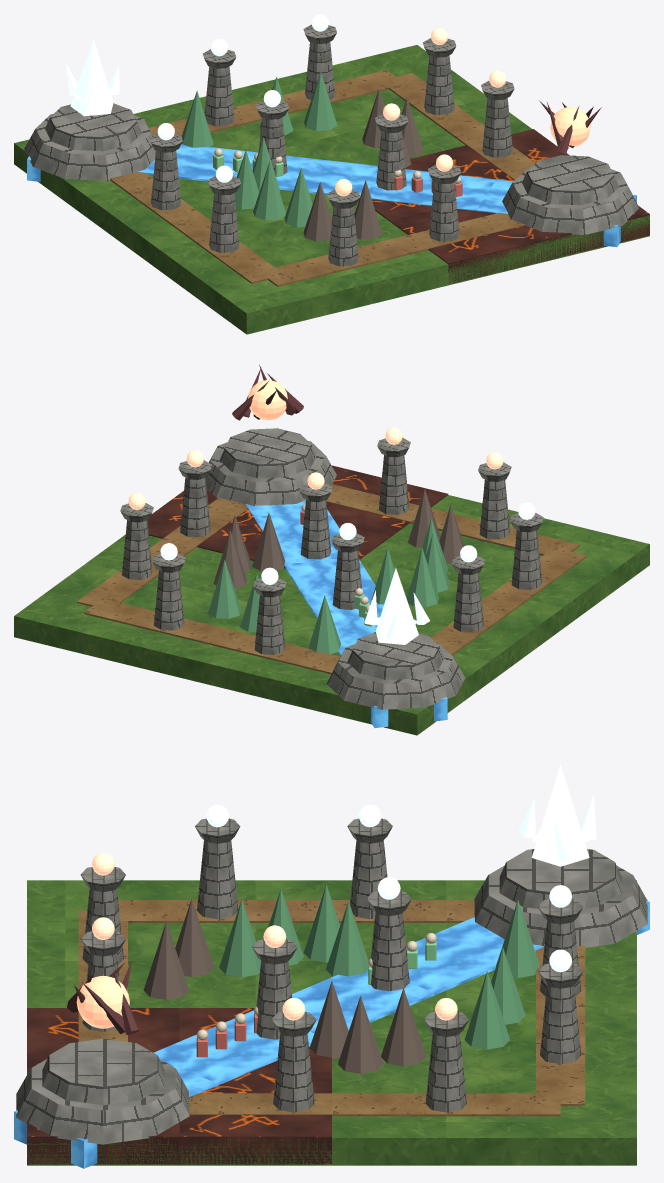
File: ch5_game_2.glb
The picture shows the model from 3 angles, top to bottom: view 1: azimuth 30°, elevation 25°; view 2: azimuth 150°, elevation 25°; view 3: azimuth 270°, elevation 25°; orthographic projection. The views are drawn at different scales.
Parts seen in each view (by area): view 1: ground, dire_half, river, base_ring.001, base_ring, lane.001, base_ring2.001, lane, base_ring2, lane.003, lane.002, crystal (+22 smaller); view 2: ground, river, dire_half, base_ring, lane.002, base_ring2.001, base_ring.001, base_ring2, lane, lane.003, lane.001, crystal (+21 smaller); view 3: ground, dire_half, river, base_ring.001, lane.003, base_ring2.001, base_ring, lane, base_ring2, lane.002, tower.001, tower.004 (+33 smaller).
Part boxes in pixels (x1,y1,x2,y2): ground: (14, 45, 649, 334); dire_half: (372, 129, 649, 283); river: (27, 144, 636, 247); base_ring.001: (502, 168, 638, 234); base_ring: (24, 114, 155, 180); lane.001: (265, 213, 525, 286); base_ring2.001: (522, 155, 618, 205); lane: (110, 172, 283, 283); base_ring2: (45, 103, 141, 151); lane.003: (382, 73, 535, 179); lane.002: (149, 70, 404, 135); crystal: (70, 39, 113, 116); ground: (14, 495, 649, 735); river: (246, 500, 447, 728); dire_half: (147, 465, 448, 568); base_ring: (326, 642, 465, 709); lane.002: (84, 602, 339, 674); base_ring2.001: (219, 428, 316, 478); base_ring.001: (205, 441, 336, 505); base_ring2: (347, 632, 444, 679); lane: (431, 548, 586, 655); lane.003: (77, 498, 248, 609); lane.001: (326, 484, 579, 555); crystal: (375, 568, 418, 644); ground: (27, 880, 636, 1165); dire_half: (27, 1008, 331, 1164); river: (14, 900, 649, 1168); base_ring.001: (16, 1059, 189, 1144); lane.003: (189, 1093, 560, 1116); base_ring2.001: (42, 1038, 164, 1105); base_ring: (474, 865, 647, 947); lane: (118, 900, 474, 922); base_ring2: (499, 849, 621, 908); lane.002: (536, 945, 585, 1105); tower.001: (197, 840, 238, 919); tower.004: (540, 985, 581, 1064).
Size of the model in its own units: 16.8 by 5.1 by 16.69.
Materials: 17 (5 with a texture image).
